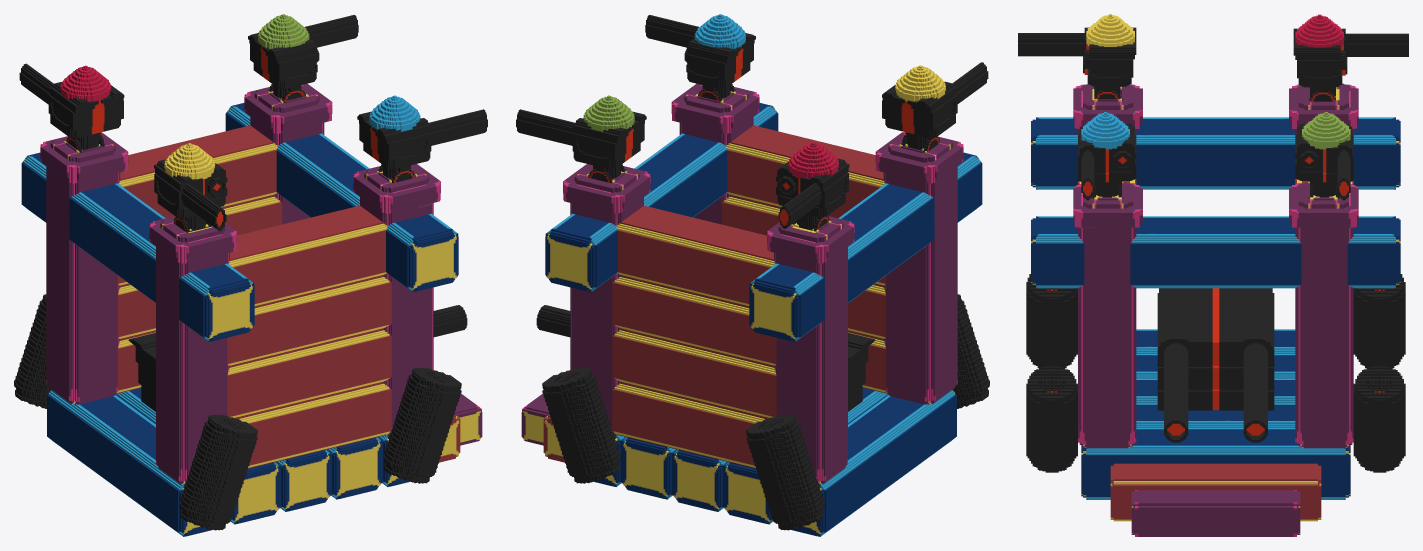
The model's file is Character-Boss-2-Boss.fbx.
3 views of the same model, side by side, from view 1: azimuth 30°, elevation 25°; view 2: azimuth 150°, elevation 25°; view 3: azimuth 270°, elevation 25° (orthographic).
Visible parts, largest first — view 1: Boss; view 2: Boss; view 3: Boss.
Boxes of the visible parts, bbox=[...] form: Boss: bbox=[14, 14, 487, 536]; Boss: bbox=[516, 14, 989, 536]; Boss: bbox=[1018, 14, 1408, 536].
Size of the model in its own units: 240 by 256 by 241.
